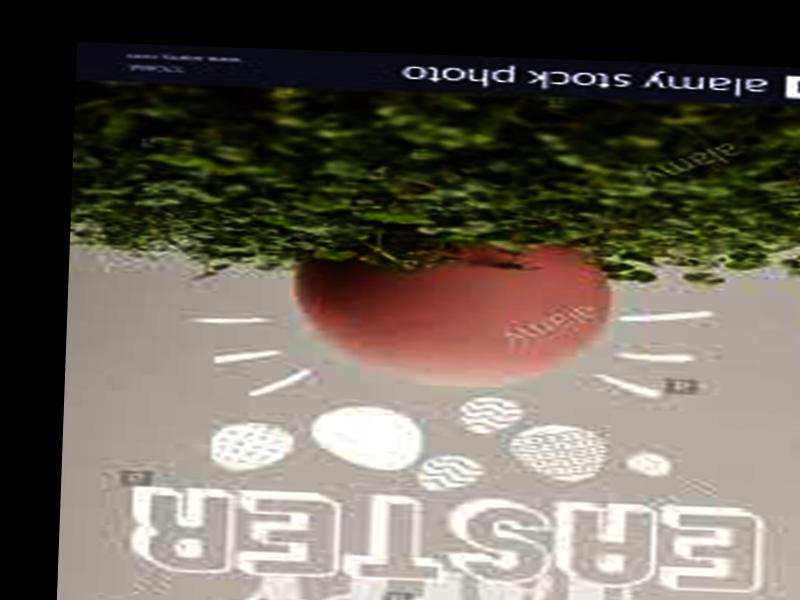Eggs: (286, 234, 607, 388)
